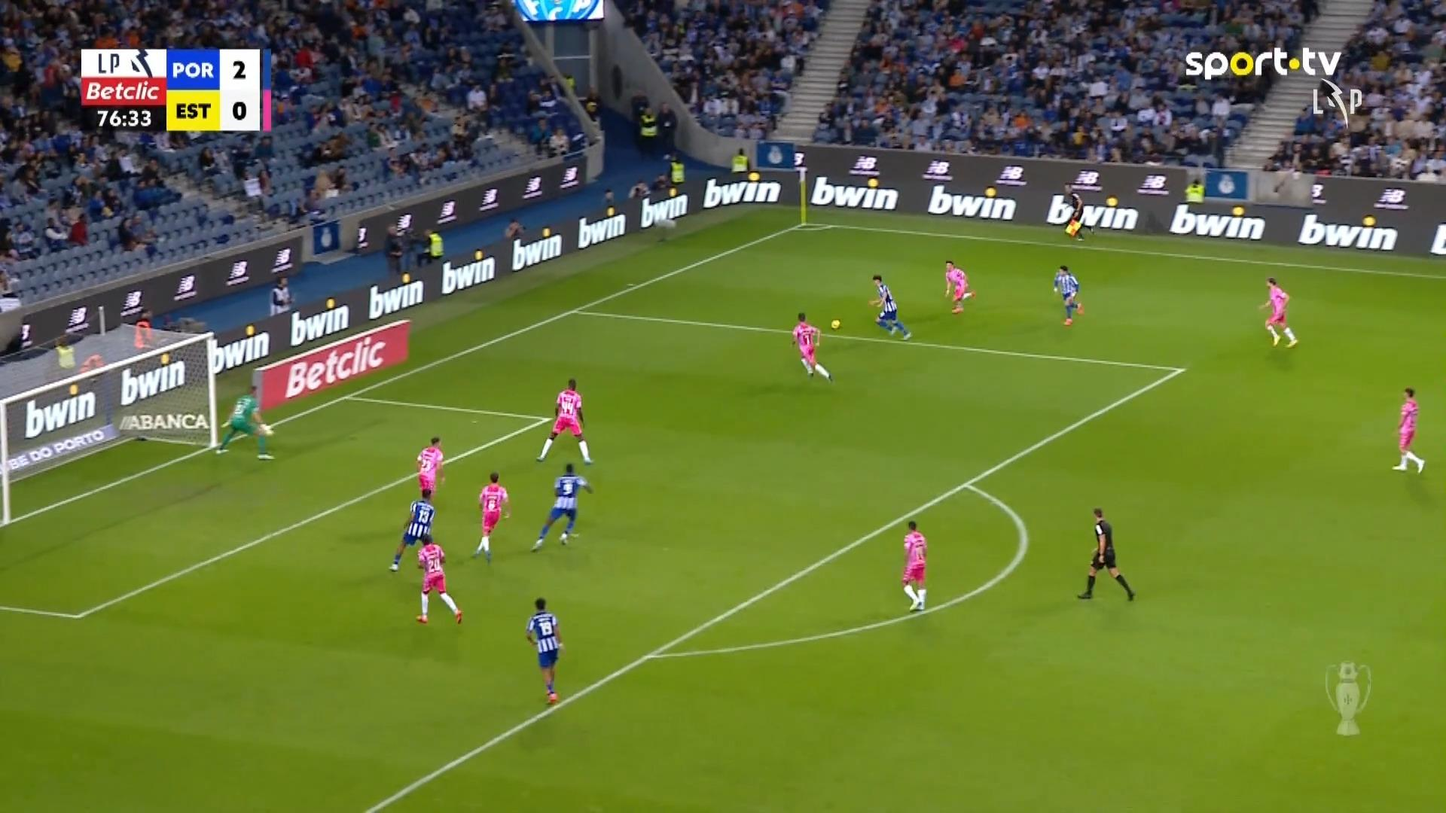ball: (984, 187, 996, 197), (830, 319, 840, 329)
goalkeeper: (215, 383, 276, 460)
player: (530, 461, 593, 551), (535, 377, 593, 464), (414, 533, 463, 624), (524, 597, 564, 704), (388, 485, 436, 571), (471, 470, 511, 562), (1391, 386, 1425, 473), (791, 311, 832, 382), (868, 274, 912, 340), (1258, 276, 1298, 348), (900, 519, 927, 611), (415, 435, 445, 502), (1052, 264, 1083, 325), (943, 259, 975, 314)
referee: (1075, 507, 1134, 601), (1060, 182, 1091, 241)
